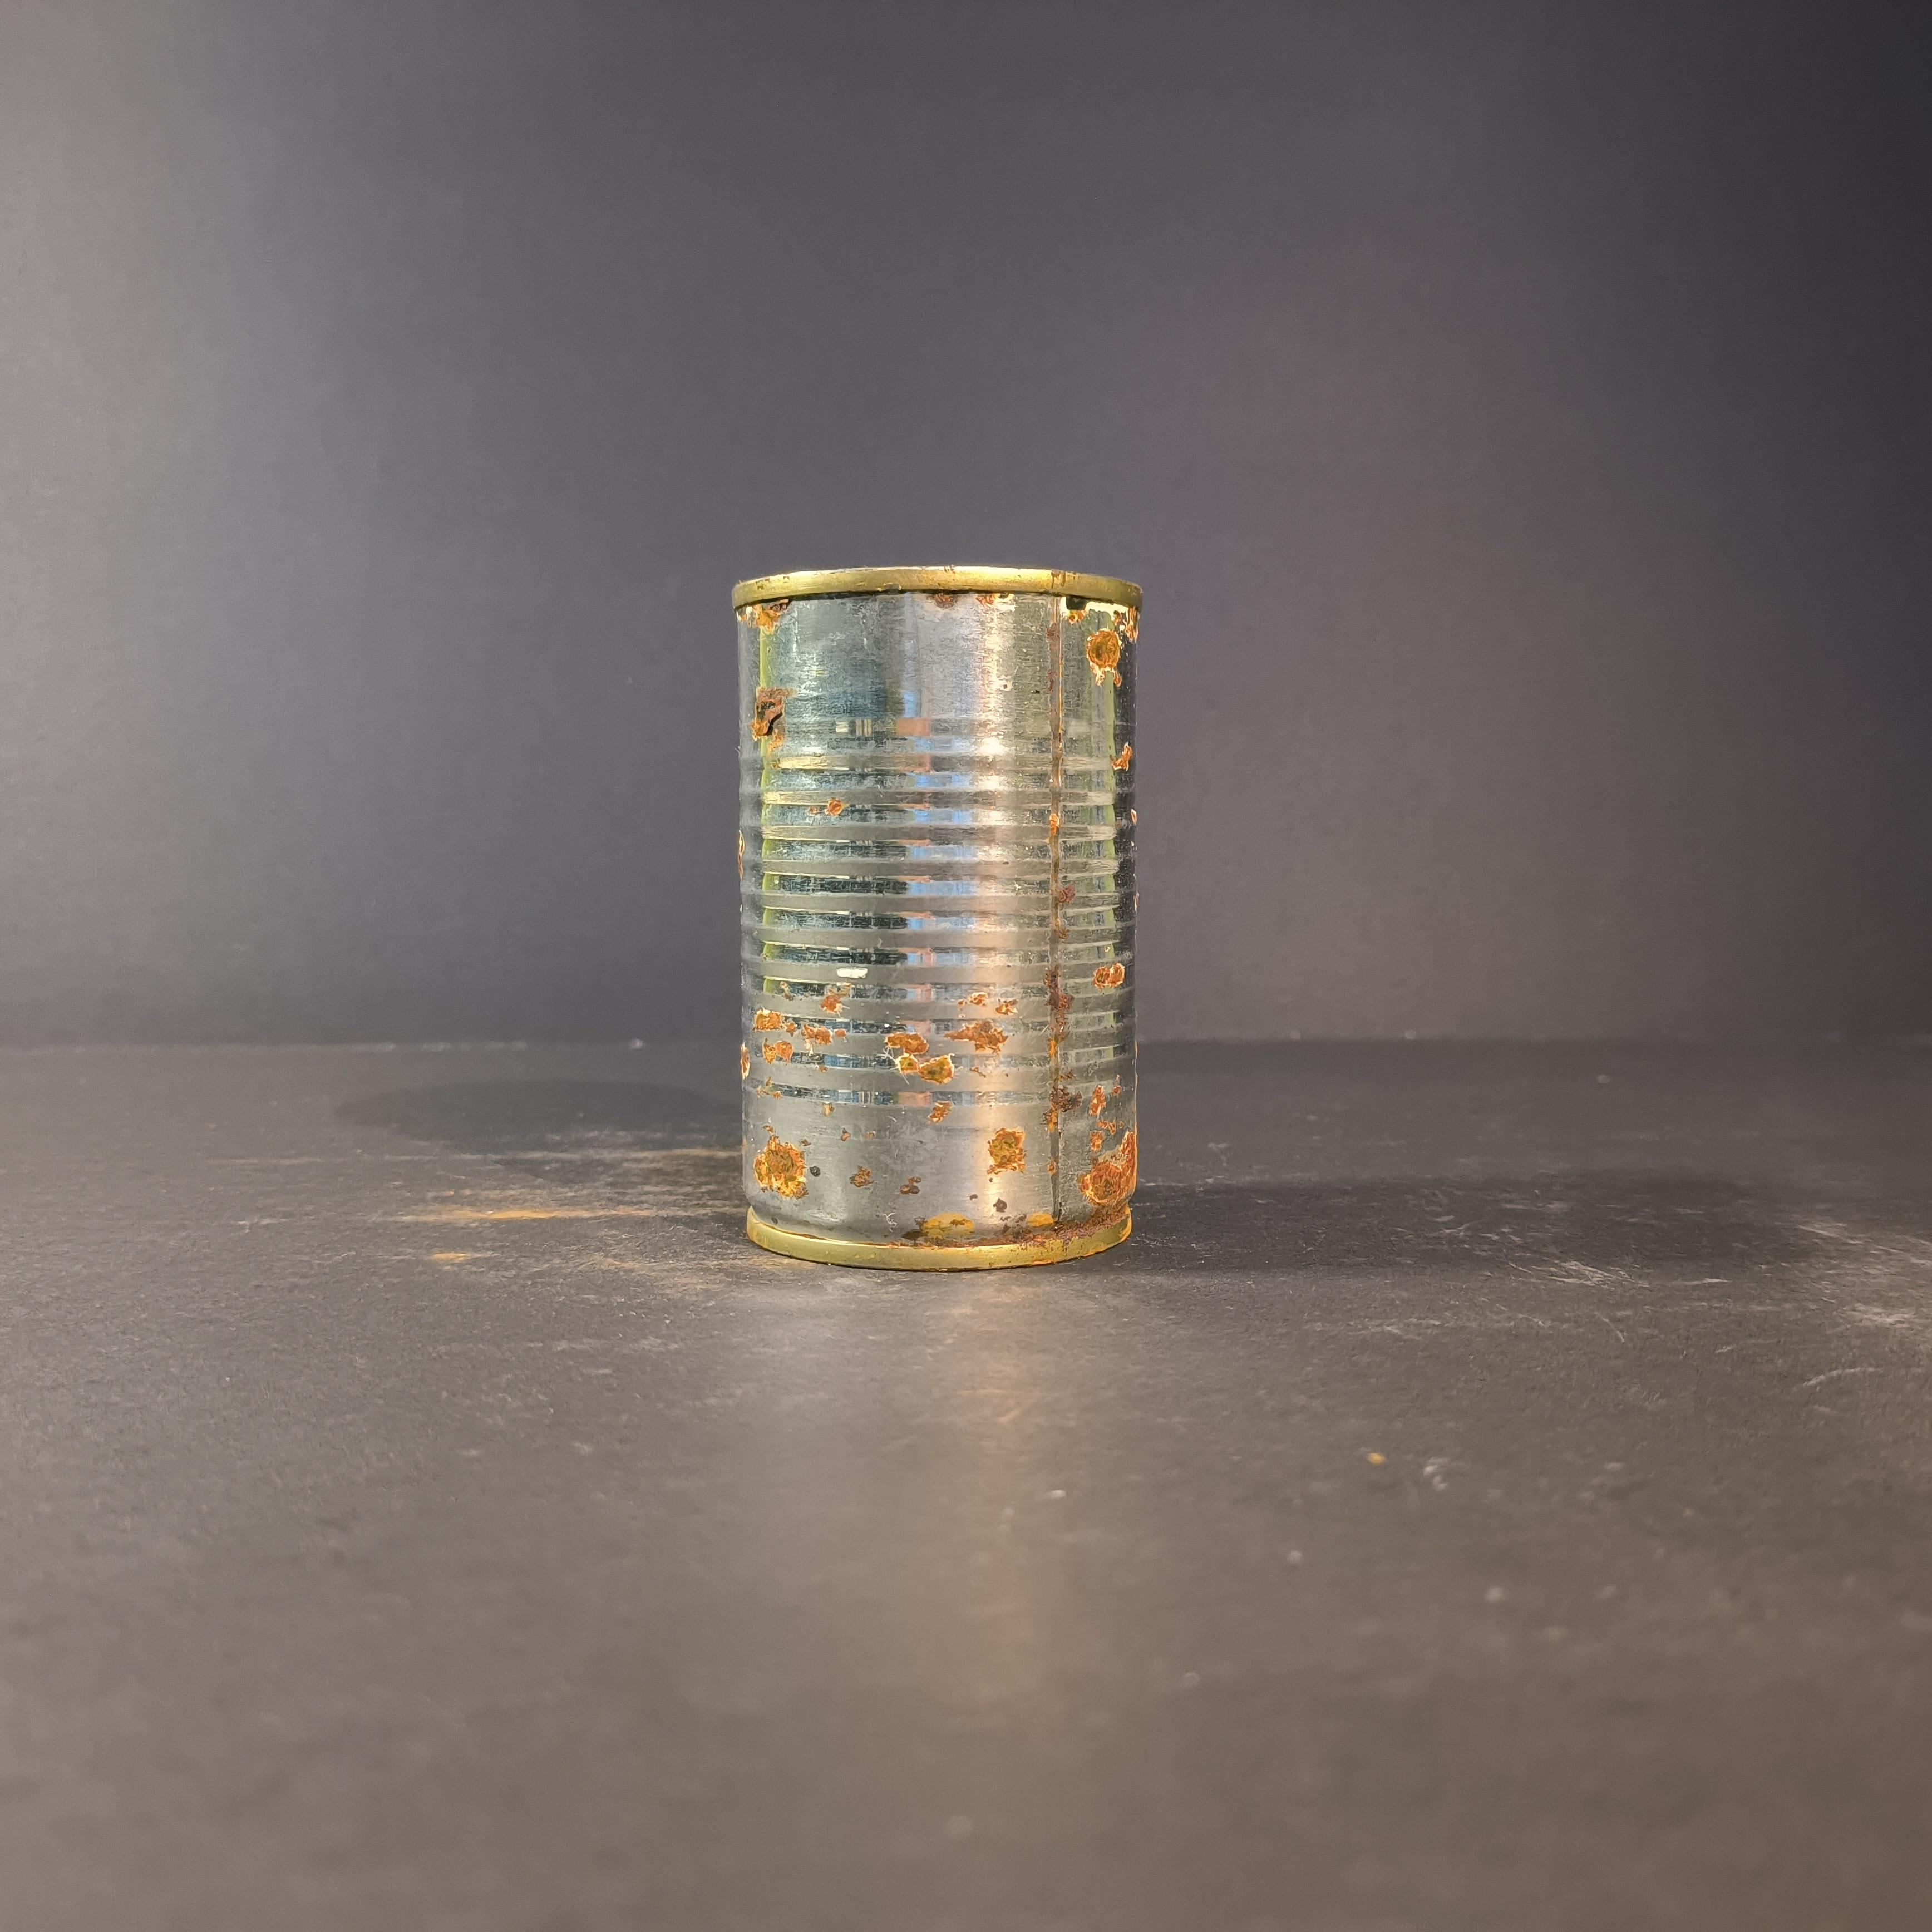Major Defect: (731, 565, 1145, 1270)
